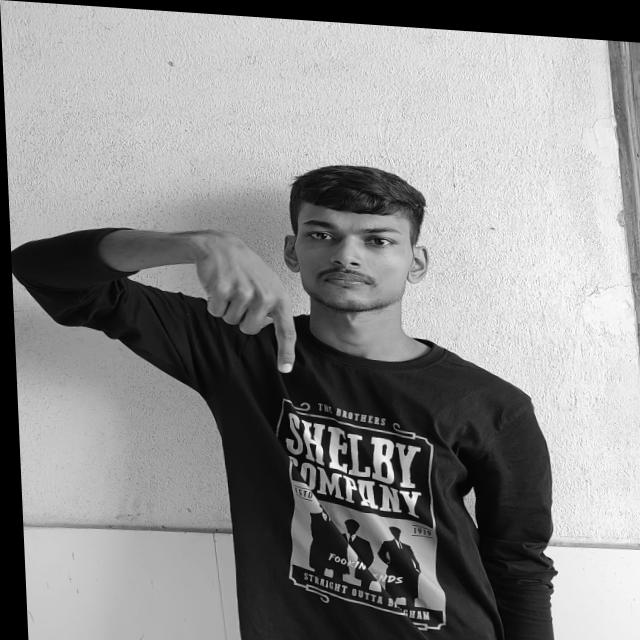Now: (177, 225, 301, 376)
